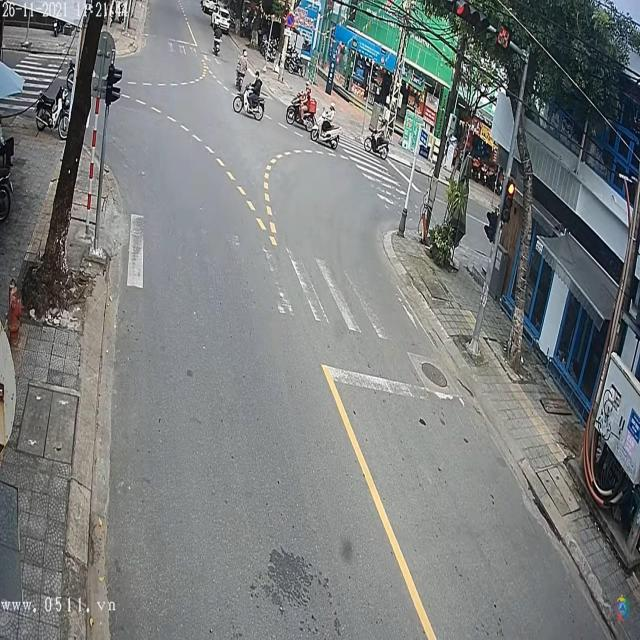motorcycle: (234, 80, 267, 119), (307, 113, 340, 148), (286, 98, 317, 130), (363, 130, 390, 160)
